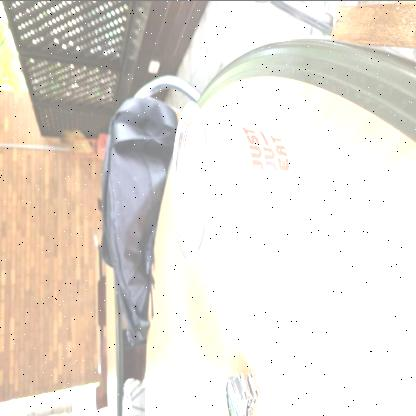Others: (168, 96, 324, 268)
